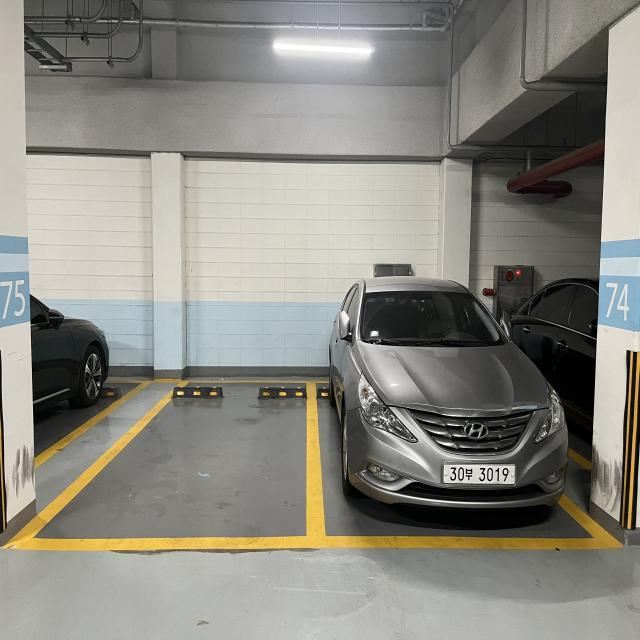empty: (53, 373, 319, 545)
occupied: (319, 260, 597, 558)
